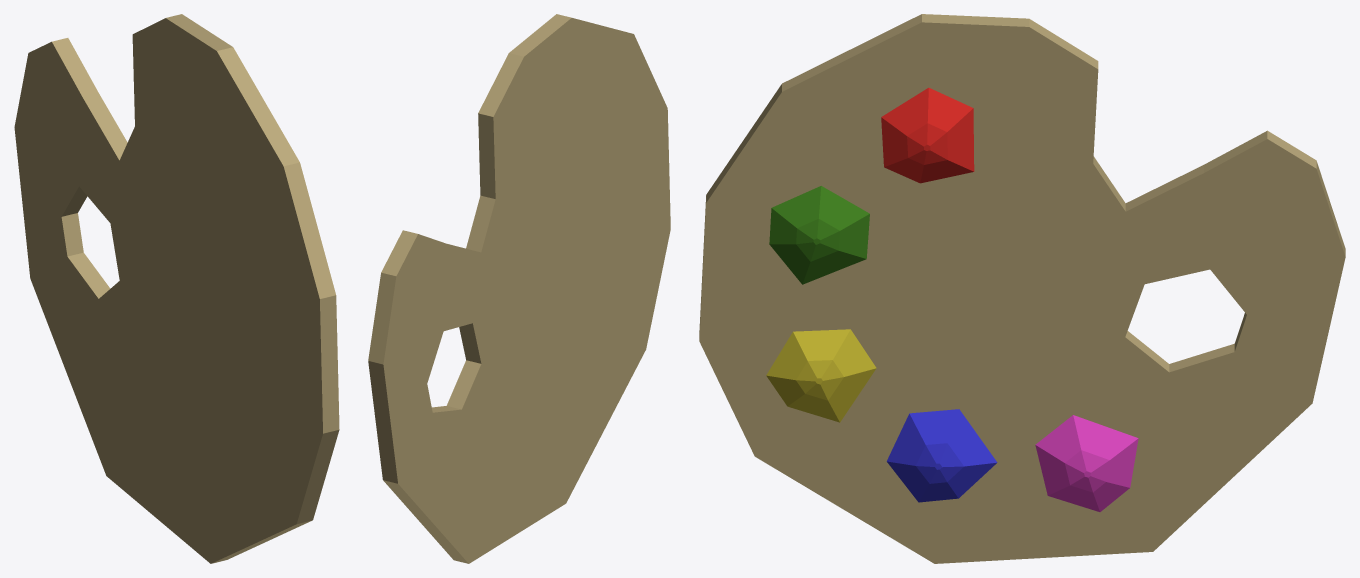
Rendered from Painting_Palette.fbx.
The picture shows the model from 3 angles, left to right: view 1: azimuth 30°, elevation 25°; view 2: azimuth 150°, elevation 25°; view 3: azimuth 270°, elevation 25°; orthographic projection. The views are drawn at different scales.
Visible parts, largest first — view 1: Plane.001; view 2: Plane.001; view 3: Plane.001.
Part boxes in pixels (bbox=[...]): Plane.001: bbox=[14, 14, 339, 563]; Plane.001: bbox=[368, 14, 670, 563]; Plane.001: bbox=[699, 14, 1345, 563].
Size of the model in its own units: 5.77 by 84.43 by 91.3.
